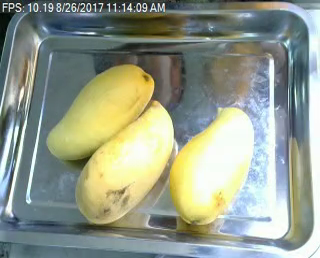Mango: (73, 97, 181, 222), (40, 61, 153, 161), (166, 106, 258, 227)
